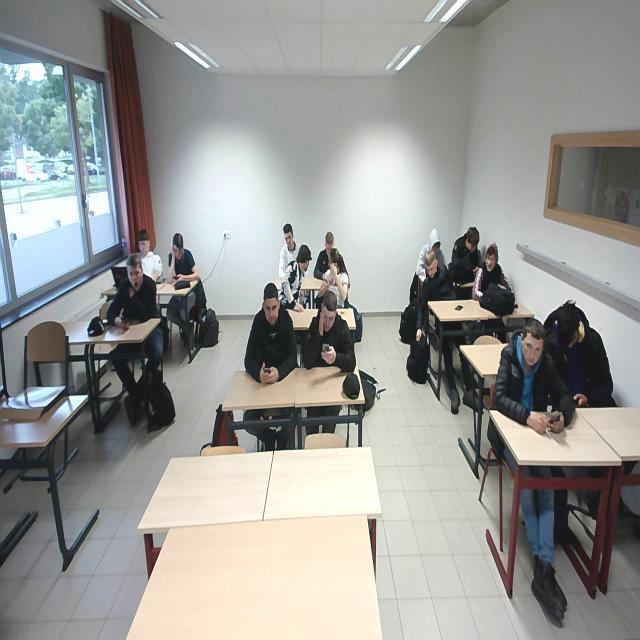Phone use: (489, 314, 571, 442), (546, 291, 604, 410), (300, 288, 356, 391), (238, 294, 294, 390), (164, 222, 206, 302), (447, 219, 493, 289)
